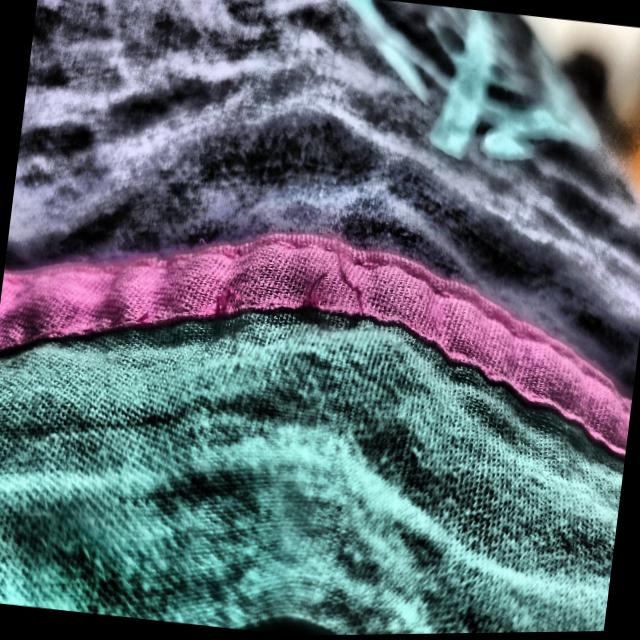Stitch: (286, 221, 388, 393), (178, 257, 266, 383)
